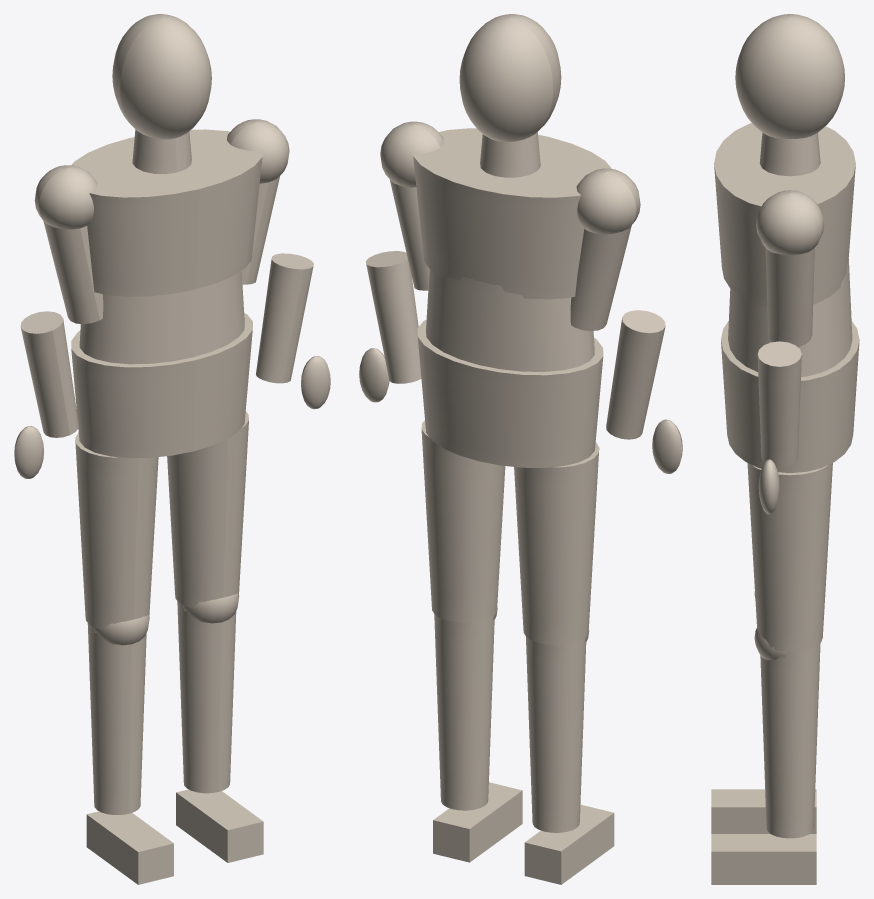
The model's file is base_avatar_poc.glb.
3 views of the same model, side by side, from view 1: azimuth 30°, elevation 25°; view 2: azimuth 150°, elevation 25°; view 3: azimuth 270°, elevation 25° (orthographic). The views are drawn at different scales.
Parts seen in each view (by area): view 1: BaseAvatar_POC; view 2: BaseAvatar_POC; view 3: BaseAvatar_POC.
Part boxes in pixels (left/top/right/bottom): BaseAvatar_POC: left=14, top=14, right=330, bottom=884; BaseAvatar_POC: left=359, top=14, right=682, bottom=884; BaseAvatar_POC: left=711, top=14, right=859, bottom=884.
Bounding box in the file's own units: 0.704 × 1.76 × 0.282.
